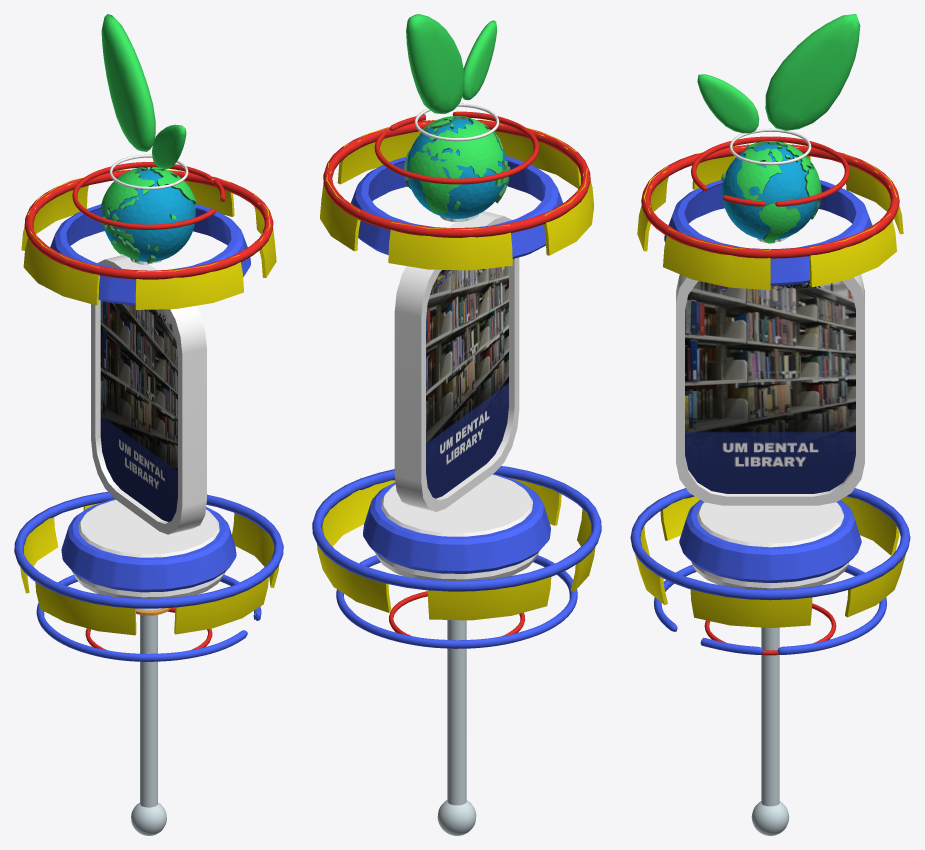
Rendered from dental_lib.glb.
3 views of the same model, side by side, from view 1: azimuth 30°, elevation 25°; view 2: azimuth 150°, elevation 25°; view 3: azimuth 270°, elevation 25° (orthographic). The views are drawn at different scales.
Visible parts, largest first — view 1: pCube3, polySurface2, pasted__pSphere8, pasted__pSphere6, pasted__pCylinder9, Sphere, pasted__pCylinder10, pCube5, pasted__polySurface27, pasted__polySurface28, pasted__pCone1, pasted__polySurface30 (+3 smaller); view 2: pCube3, polySurface2, pasted__pSphere8, pasted__pSphere6, pasted__pCylinder9, Sphere, pasted__pCylinder10, pasted__polySurface27, pCube5, pasted__polySurface28, pasted__polySurface30, pasted__pCone1 (+4 smaller); view 3: pCube3, pasted__pSphere8, pCube5, pasted__pSphere6, Sphere, pasted__pCylinder9, pasted__pCylinder10, polySurface2, pasted__polySurface27, pasted__polySurface28, pasted__polySurface30, pasted__pCone1 (+4 smaller).
Boxes of the visible parts, box(x1,y1,x2,y2) form: pCube3: box(100, 300, 177, 522); polySurface2: box(91, 255, 206, 534); pasted__pSphere8: box(21, 169, 276, 309); pasted__pSphere6: box(20, 503, 279, 635); pasted__pCylinder9: box(61, 499, 236, 592); Sphere: box(100, 166, 196, 264); pasted__pCylinder10: box(71, 500, 225, 598); pCube5: box(101, 14, 186, 169); pasted__polySurface27: box(14, 492, 283, 608); pasted__polySurface28: box(24, 170, 273, 279); pasted__pCone1: box(131, 608, 166, 835); pasted__polySurface30: box(50, 204, 250, 305); pCube3: box(426, 266, 508, 498); polySurface2: box(394, 211, 519, 511); pasted__pSphere8: box(320, 119, 593, 270); pasted__pSphere6: box(317, 477, 595, 620); pasted__pCylinder9: box(363, 473, 550, 573); Sphere: box(404, 116, 510, 221); pasted__pCylinder10: box(375, 474, 539, 580); pasted__polySurface27: box(312, 466, 601, 591); pCube5: box(406, 14, 496, 113); pasted__polySurface28: box(323, 120, 590, 237); pasted__polySurface30: box(350, 156, 562, 258); pasted__pCone1: box(437, 620, 476, 835); pCube3: box(685, 281, 855, 493); pasted__pSphere8: box(637, 144, 903, 290); pCube5: box(697, 14, 860, 133); pasted__pSphere6: box(635, 496, 905, 627); Sphere: box(721, 141, 821, 243); pasted__pCylinder9: box(679, 500, 861, 582); pasted__pCylinder10: box(691, 502, 849, 589); polySurface2: box(676, 248, 864, 505); pasted__polySurface27: box(630, 488, 910, 600); pasted__polySurface28: box(641, 144, 899, 258); pasted__polySurface30: box(664, 180, 872, 285); pasted__pCone1: box(751, 627, 789, 835).
Size of the model in its own units: 0.0149 by 0.0481 by 0.0149.
Materials: 10 (1 with a texture image).
